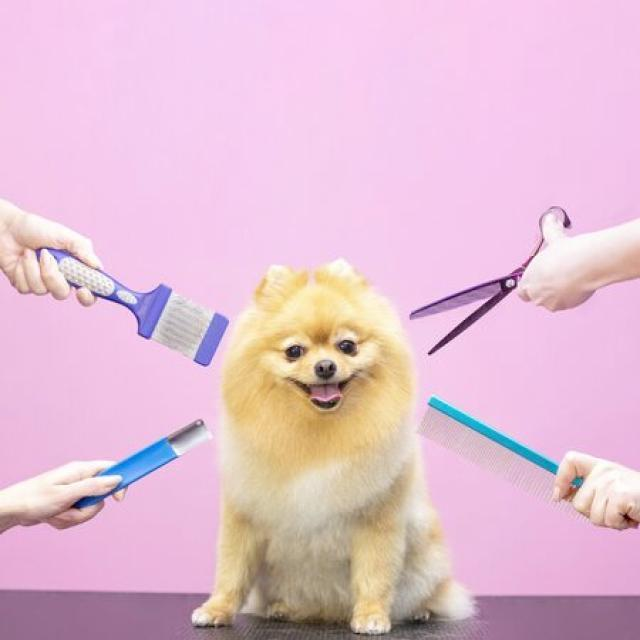scissors: (406, 199, 578, 367)
